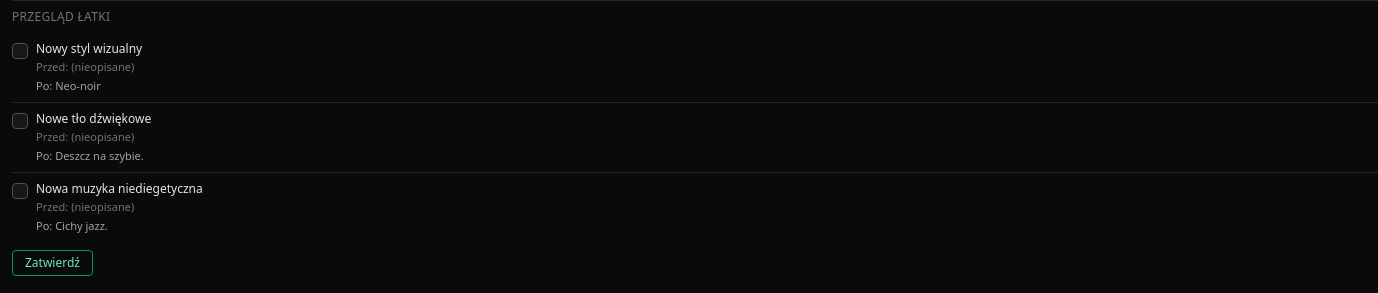
Test: PatchReview — zatwierdzenie › jedno zatwierdzenie to jeden wpis historii cofania, niezależnie od liczby operacji
Click the checkbox named "Nowy styl wizualny". click: (20, 51)
box: [12, 43, 28, 59]
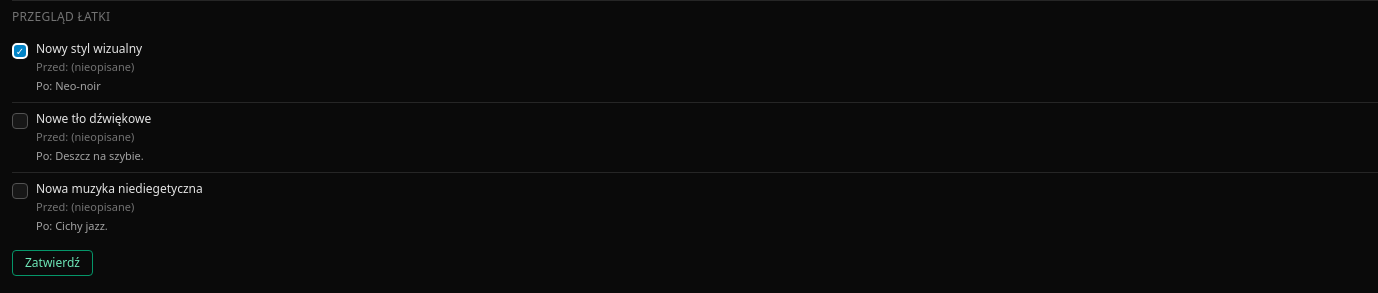
Click the checkbox named "Nowe tło dźwiękowe". click: (20, 121)
box: [12, 113, 28, 129]
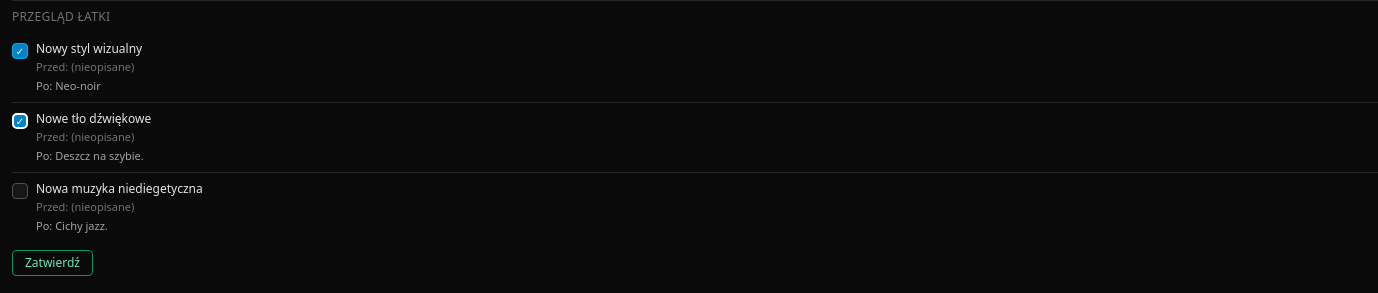
Click the checkbox named "Nowa muzyka niediegetyczna". click: (20, 191)
box: [12, 183, 28, 199]
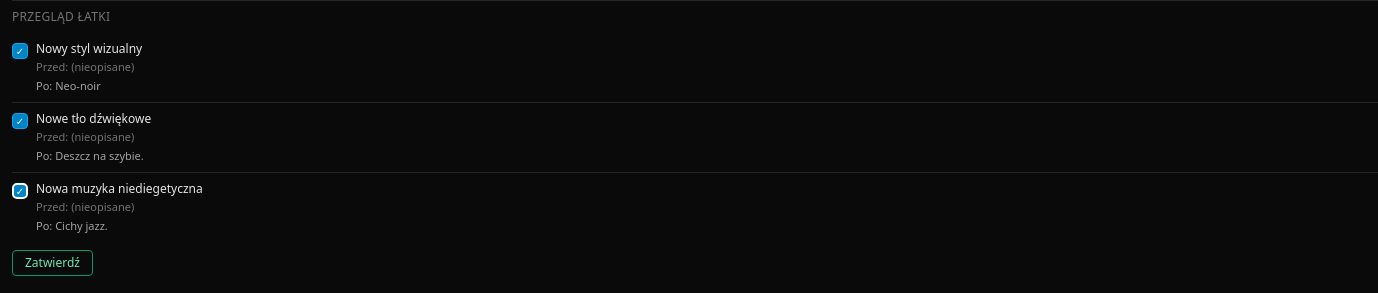
Click the button "Zatwierdź". click: (52, 263)
box: [12, 250, 93, 276]
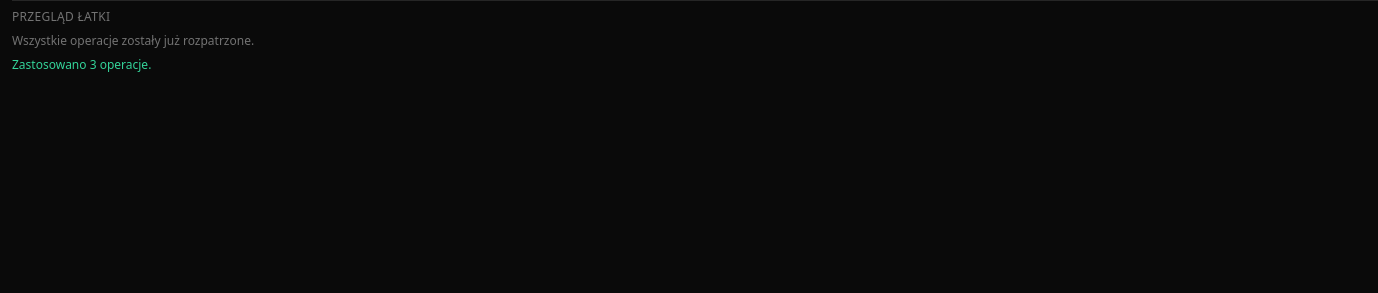
Expected: the text "Zastosowano 3 operacje." is shown, [12, 56, 151, 73]
